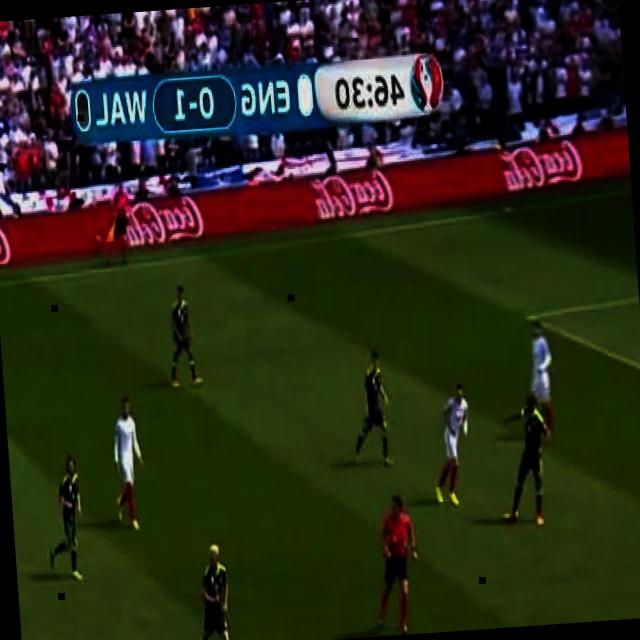player-white: (494, 394, 556, 532), (369, 494, 427, 637), (428, 381, 478, 509), (107, 396, 149, 532), (347, 350, 394, 470), (44, 455, 86, 585), (186, 541, 234, 640), (164, 284, 203, 390), (525, 322, 557, 432)
